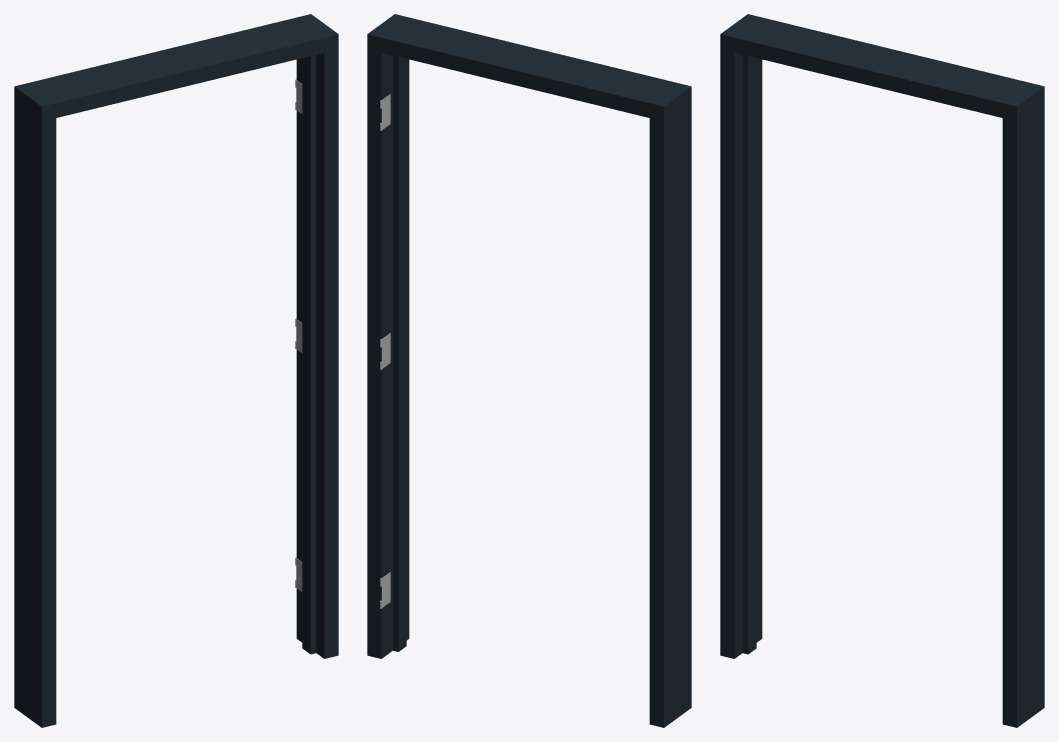
File: sgc_door_frame_single.obj
3 views of the same model, side by side, from view 1: azimuth 30°, elevation 25°; view 2: azimuth 150°, elevation 25°; view 3: azimuth 330°, elevation 25° (orthographic).
Parts seen in each view (by area): view 1: Door_Frame_Export; view 2: Door_Frame_Export; view 3: Door_Frame_Export.
Part boxes in pixels (bbox=[...]): Door_Frame_Export: bbox=[14, 14, 338, 727]; Door_Frame_Export: bbox=[367, 14, 691, 727]; Door_Frame_Export: bbox=[720, 14, 1044, 727].
Size of the model in its own units: 15.85 by 31.7 by 2.65.
